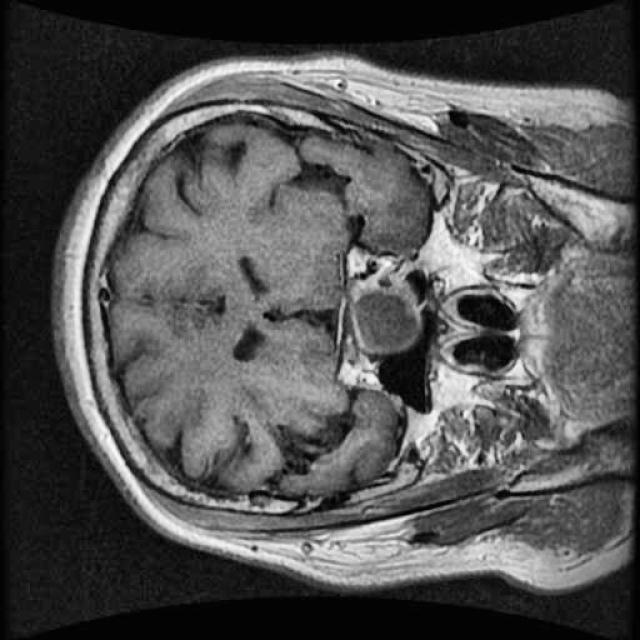Tumor: (340, 269, 431, 362)
